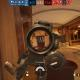Friend_label: (50, 55, 54, 57)
